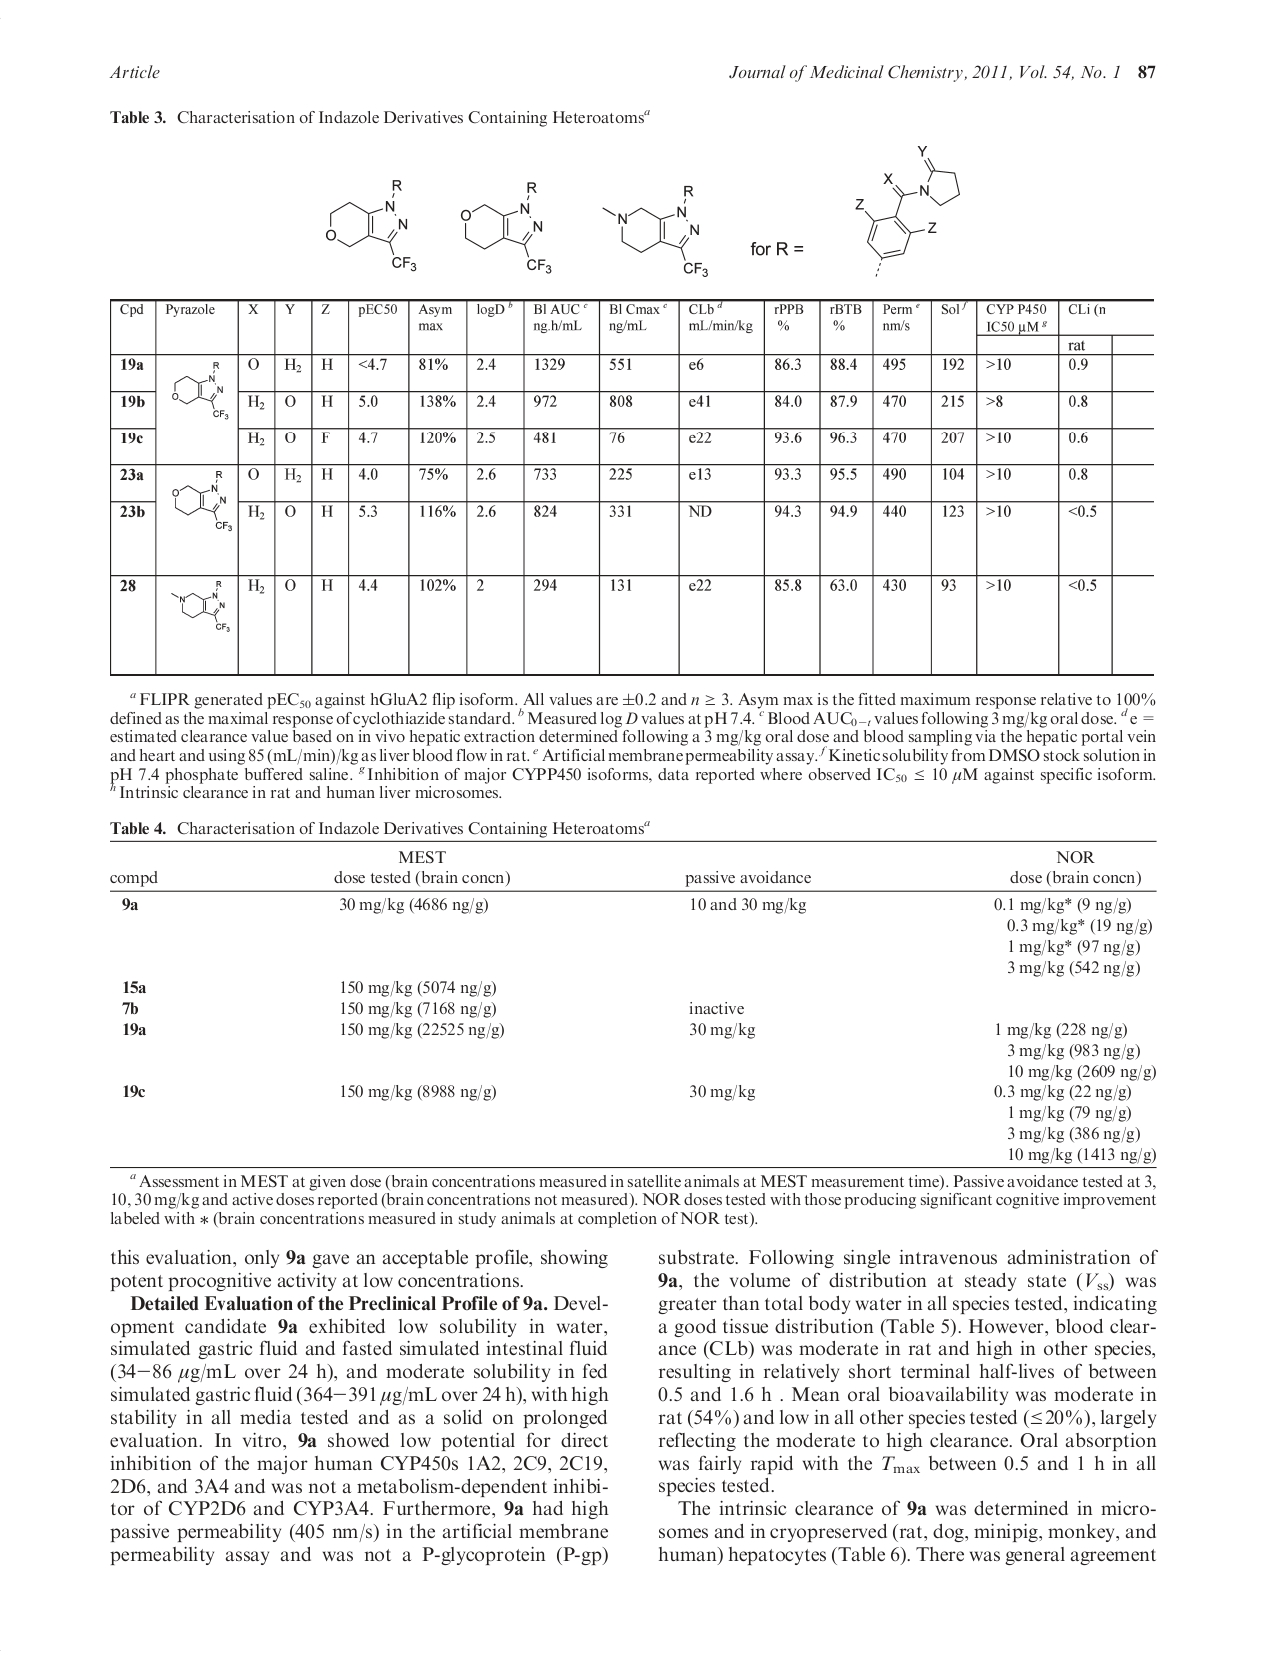exist_molecular: (852, 140, 965, 283), (598, 184, 715, 285), (457, 176, 561, 285), (323, 177, 419, 278), (172, 468, 234, 532), (172, 359, 230, 422), (169, 577, 230, 634)
